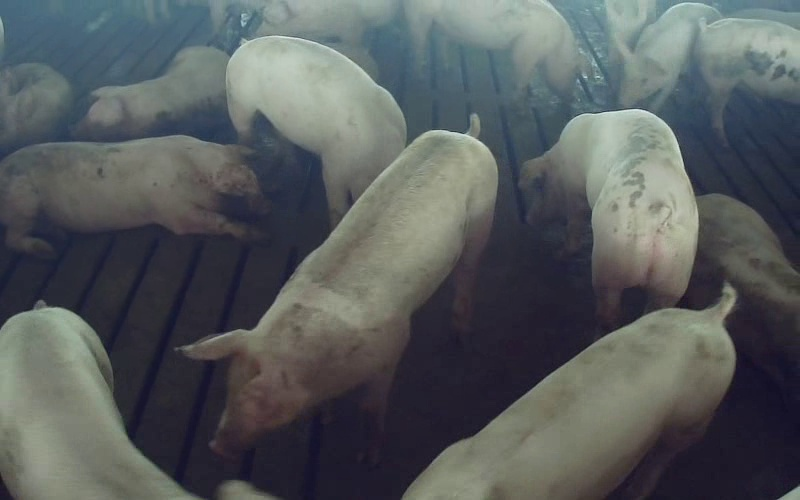pig: (182, 115, 497, 457), (404, 284, 734, 499), (520, 110, 696, 329), (226, 36, 405, 226), (0, 136, 266, 256), (686, 195, 799, 419), (404, 0, 579, 98), (71, 47, 228, 140), (694, 18, 799, 144), (614, 3, 720, 111)
